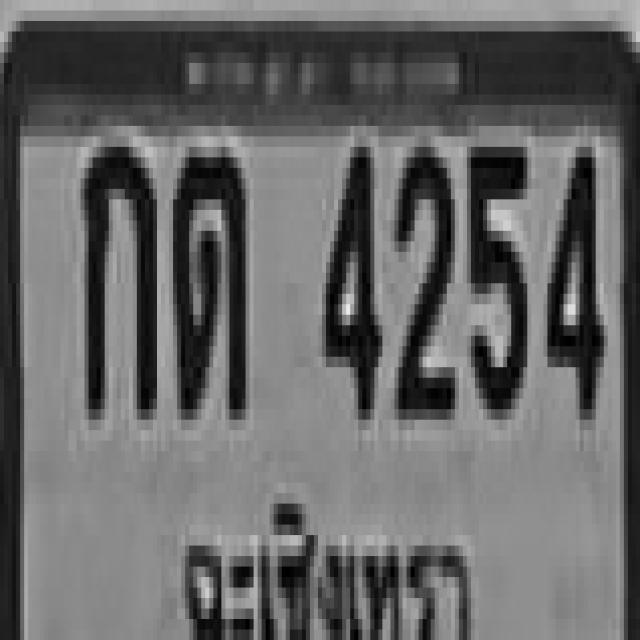10GorGai: (80, 136, 153, 410)
2: (390, 136, 451, 410)
30TorTao: (169, 147, 242, 409)
4: (543, 136, 600, 410), (320, 136, 376, 410)
5: (467, 136, 523, 410)
Chachoengsao: (173, 488, 487, 640)
